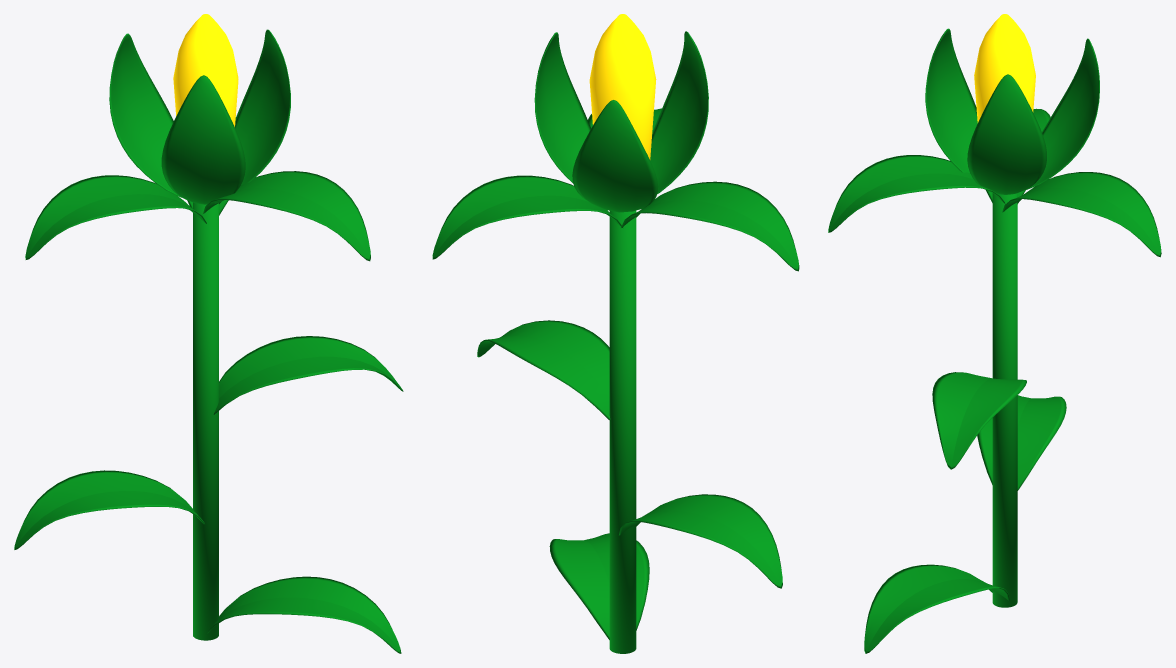
Rendered from CornPlant1.fbx.
The picture shows the model from 3 angles, left to right: view 1: azimuth 30°, elevation 25°; view 2: azimuth 150°, elevation 25°; view 3: azimuth 270°, elevation 25°; orthographic projection. The views are drawn at different scales.
Visible parts, largest first — view 1: CornPlant1; view 2: CornPlant1; view 3: CornPlant1.
Part boxes in pixels (box(x1,y1,x2,y2)): CornPlant1: box(14, 14, 403, 653); CornPlant1: box(432, 14, 799, 653); CornPlant1: box(828, 14, 1161, 653).
Size of the model in its own units: 2.22 by 1.95 by 3.8.
